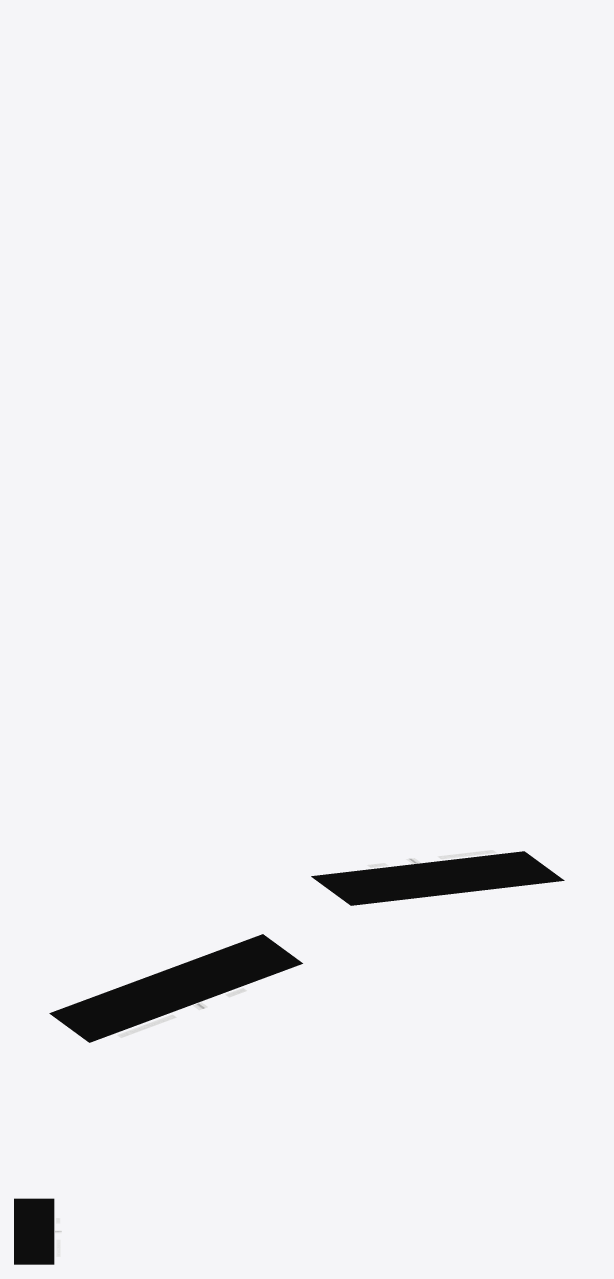
File: MeshFridgeDoorE4_1_GeomSubset_6.obj
3 renders of one model, top to bottom at view 1: azimuth 30°, elevation 25°; view 2: azimuth 210°, elevation 25°; view 3: azimuth 270°, elevation 25°, orthographic. The views are drawn at different scales.
Parts seen in each view (by area): view 1: MeshFridgeDoorE4_1_GeomSubset_6; view 2: MeshFridgeDoorE4_1_GeomSubset_6; view 3: MeshFridgeDoorE4_1_GeomSubset_6.
Part boxes in pixels (x1,y1,x2,y2): MeshFridgeDoorE4_1_GeomSubset_6: [311, 850, 564, 905]; MeshFridgeDoorE4_1_GeomSubset_6: [49, 934, 302, 1042]; MeshFridgeDoorE4_1_GeomSubset_6: [14, 1198, 61, 1264].
Bounding box in the file's own units: 0.3222 × 0.4558 × 1.15.
